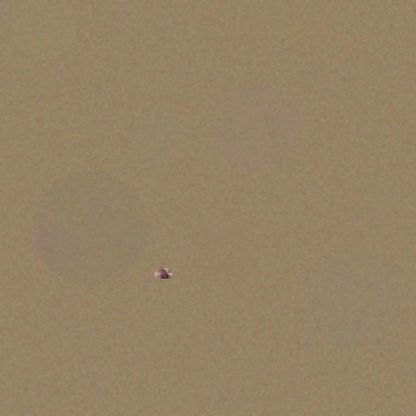sprouted: (154, 268, 173, 279)
